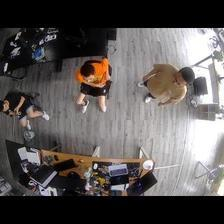normal: (135, 61, 196, 109), (74, 56, 111, 113), (1, 89, 50, 129)
